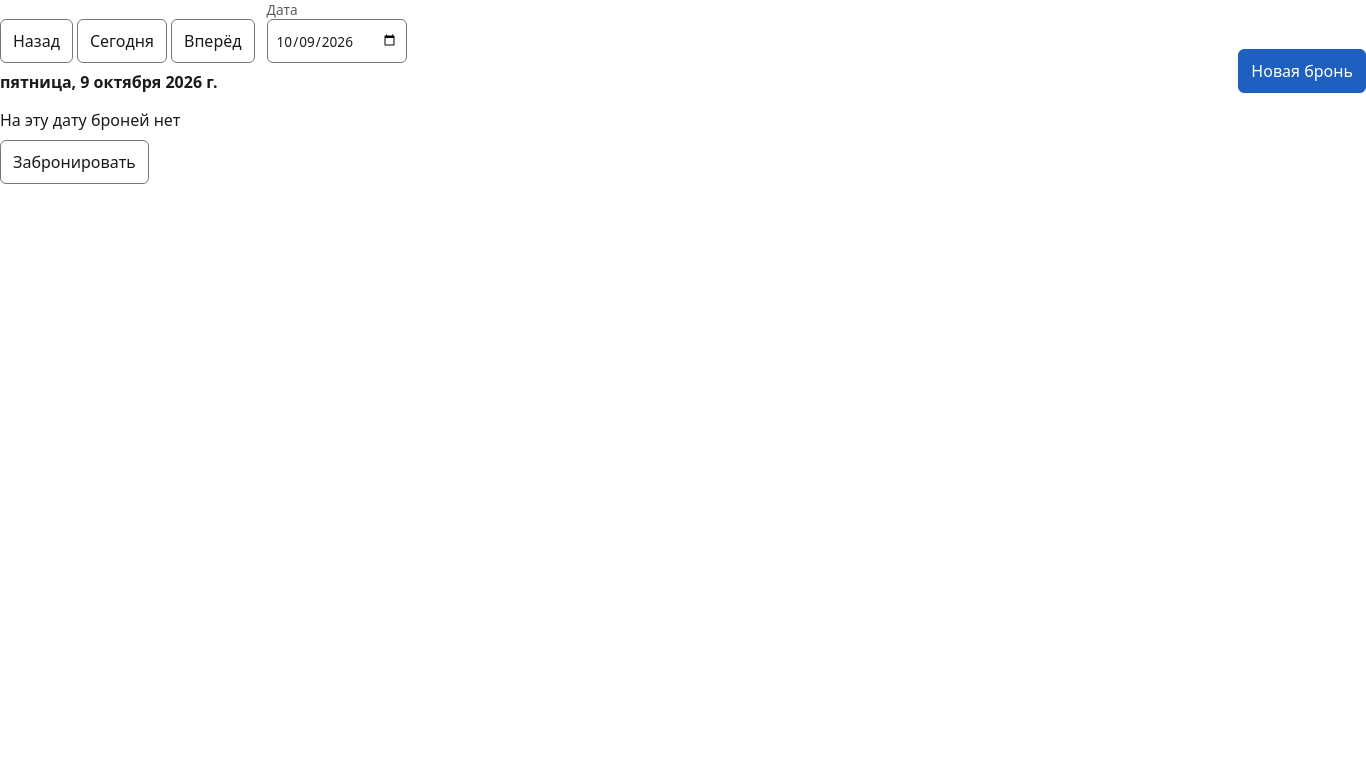
Test: Форма: 409 при сохранении (B8, Q7) › B8: смена только окончания тоже снимает пометку конфликта с обоих полей
The width and height of the screenshot is (1366, 768).
Click the button "Новая бронь" at (1302, 71), box [1238,49,1365,93]
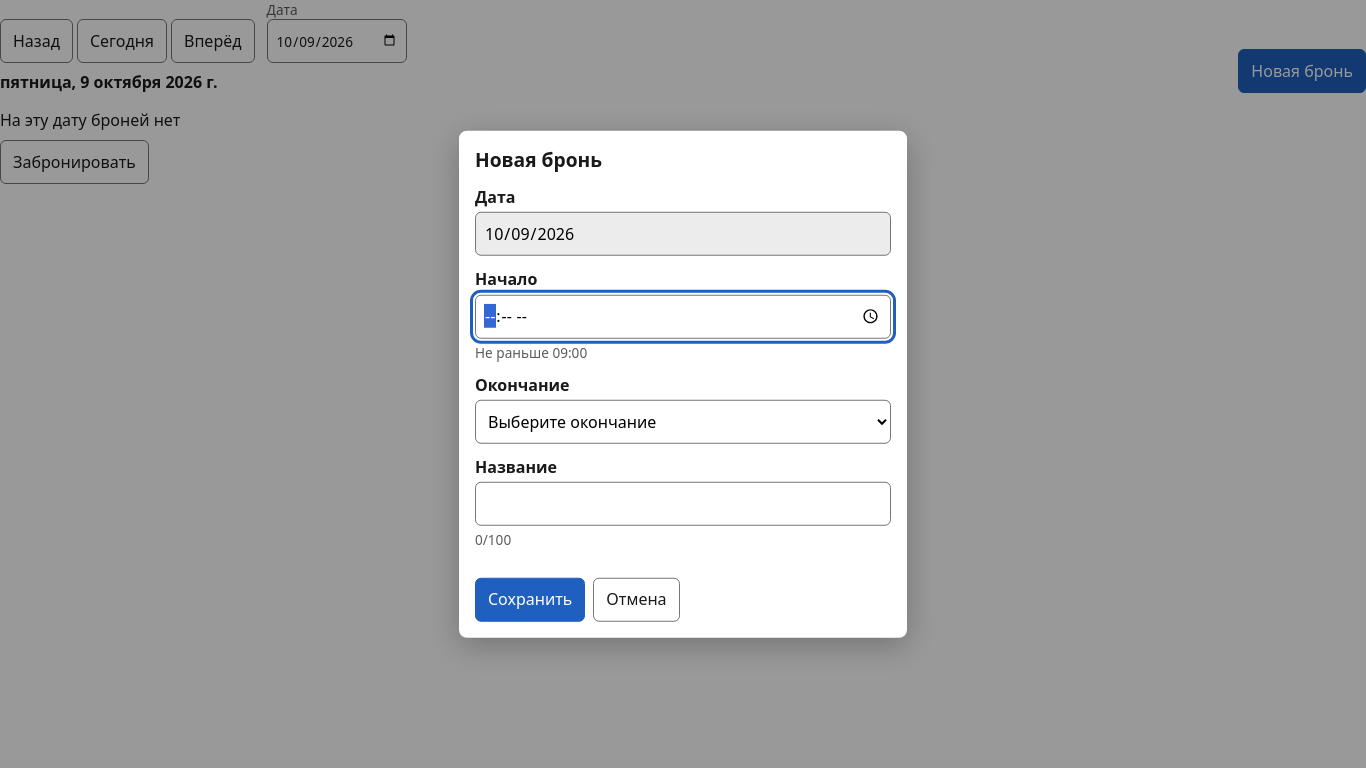
Expected: the dialog "Новая бронь" is shown, [459,131,907,637]
Type "14:00" into the time field labelled "Начало" at (683, 316), box [475,294,891,338]
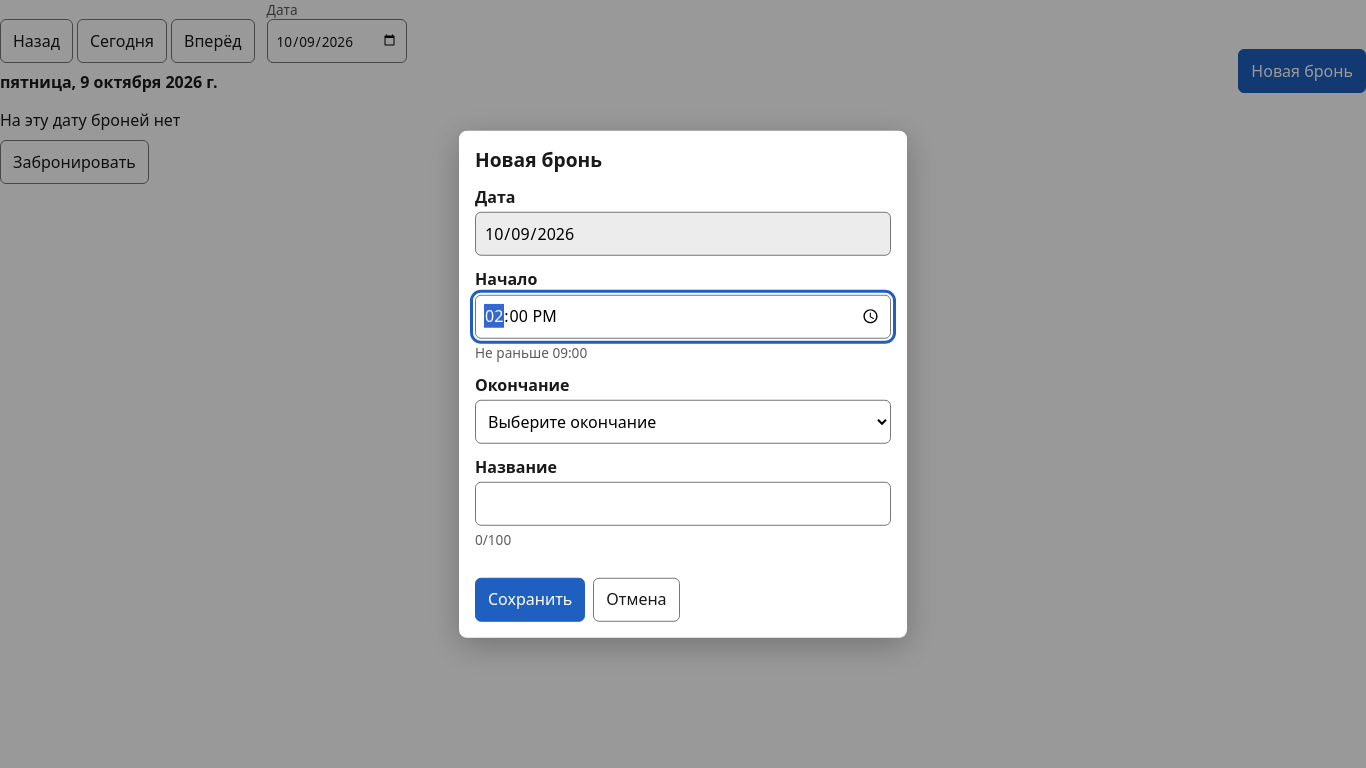
Select "15:00" in the dropdown labelled "Окончание" at (683, 422), box [475,400,891,444]
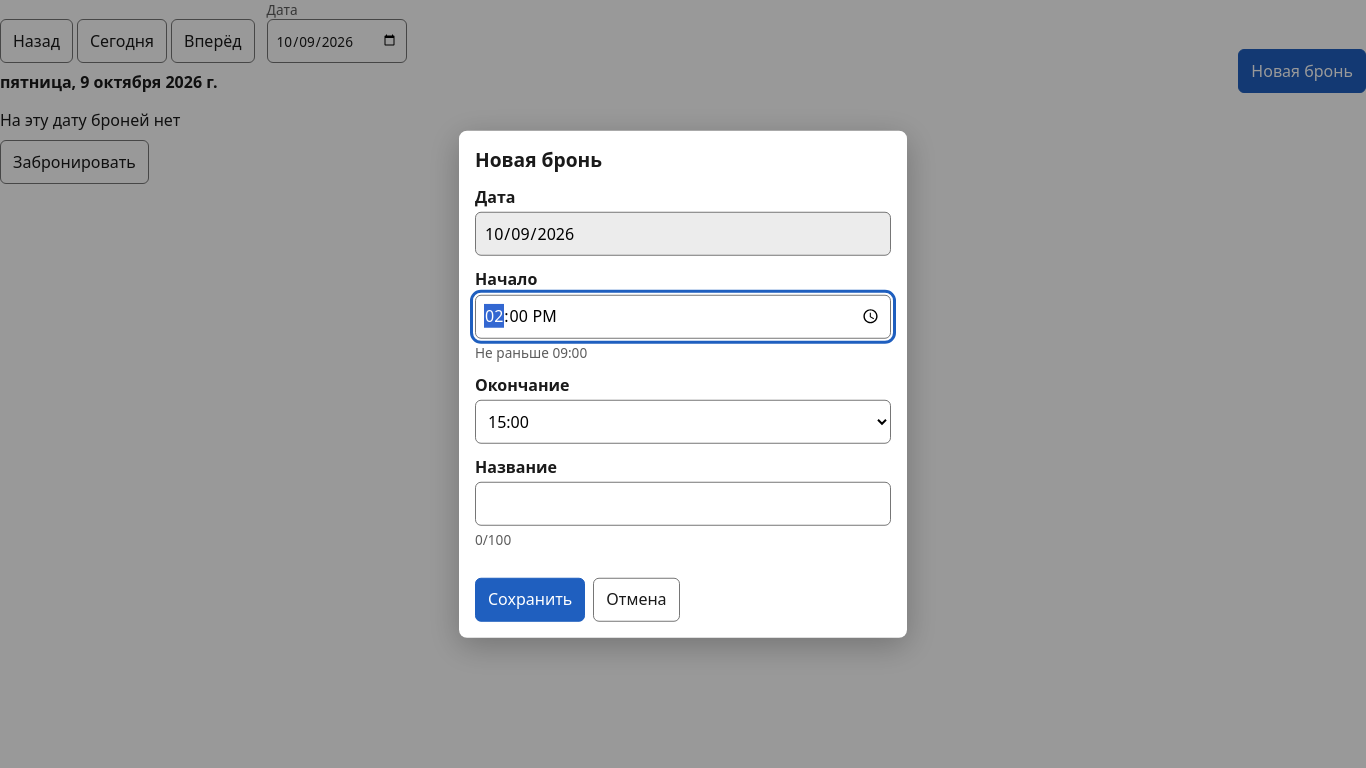
Type "Демо" into the field labelled "Название" at (683, 504), box [475,482,891,526]
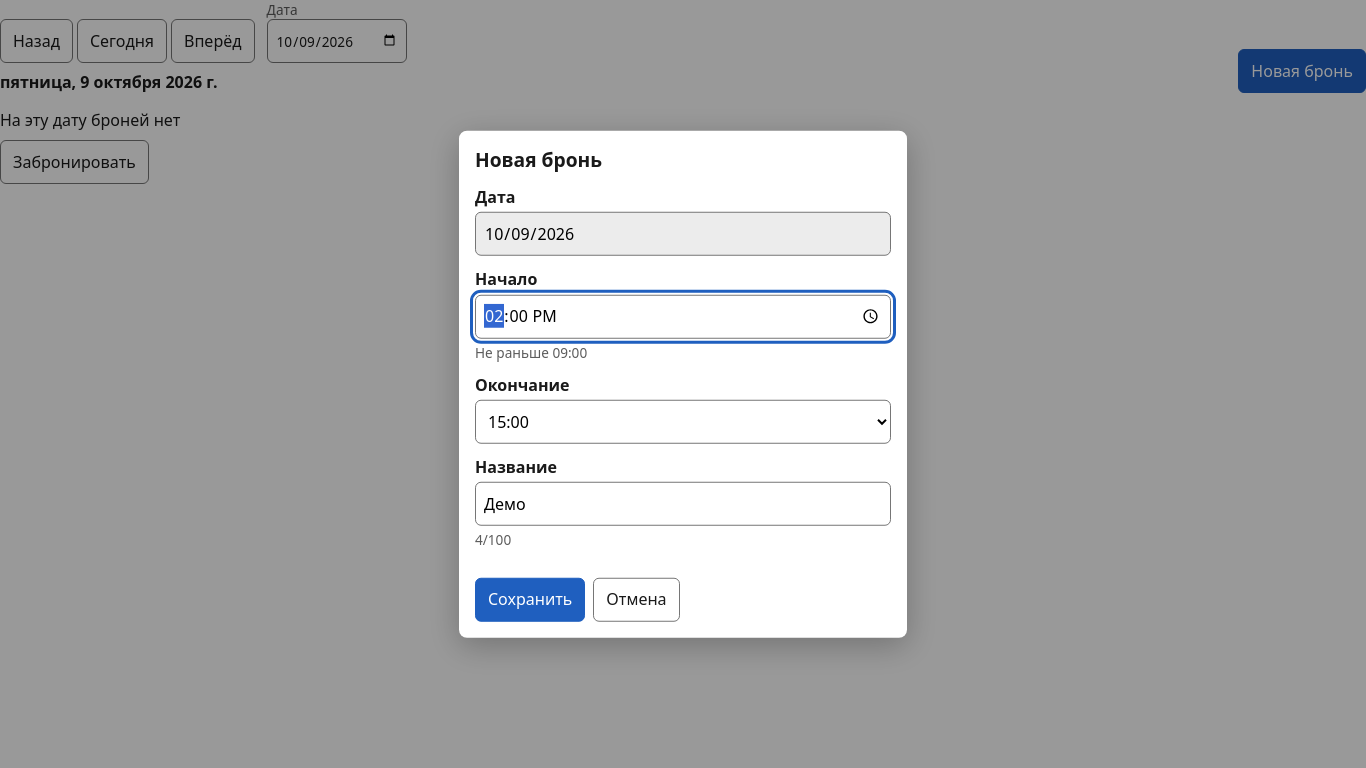
Click the button "Сохранить" at (530, 599), box [475,577,585,621]
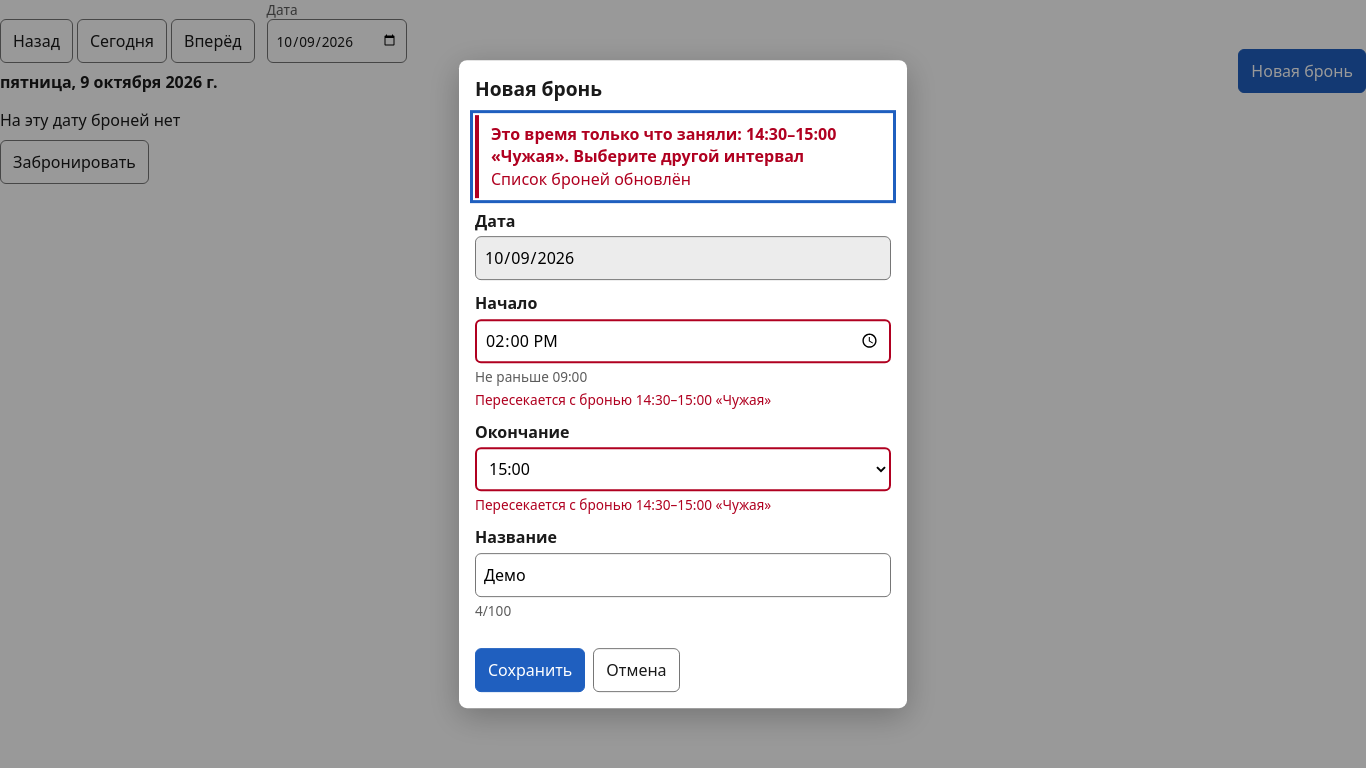
Expected: the message is shown, [475,115,891,198]
Select "14:30" in the dropdown labelled "Окончание" at (683, 469), box [475,447,891,491]
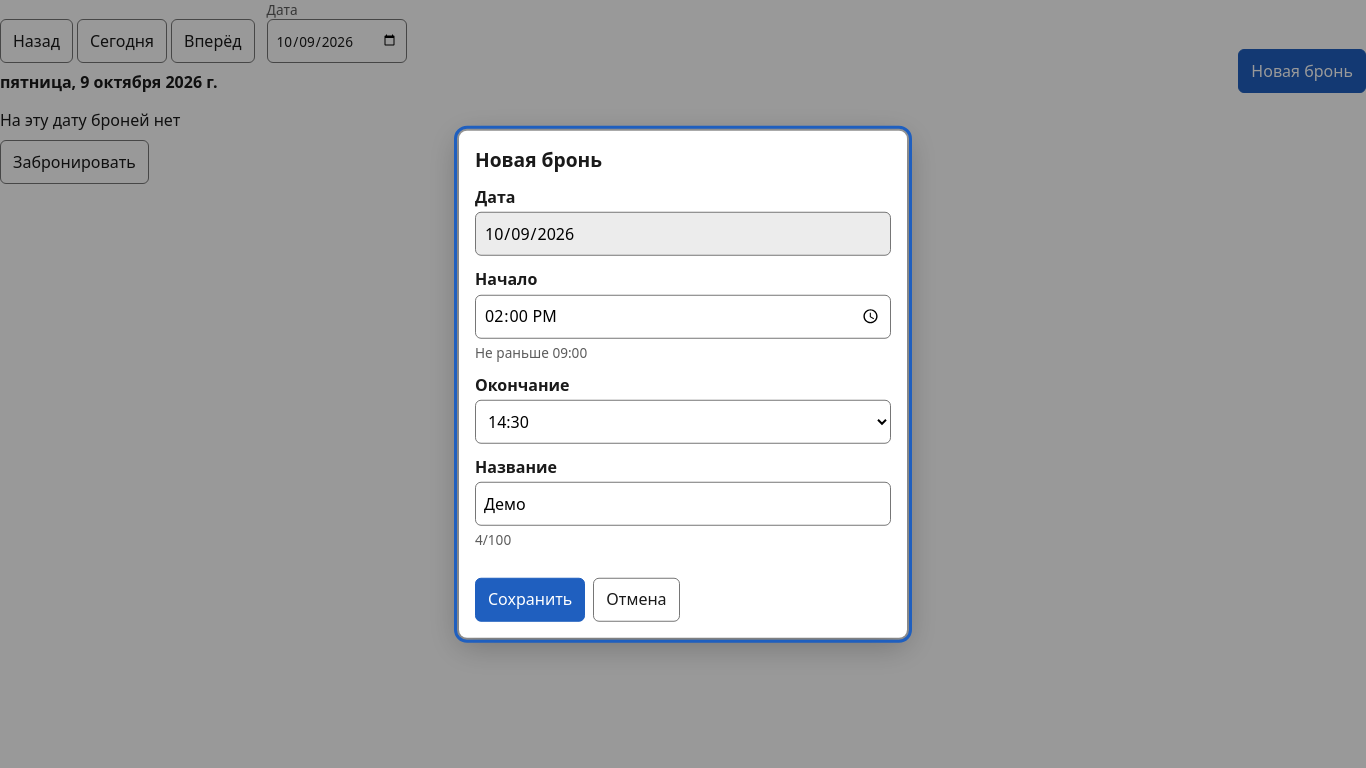
Expected: the text "Это время только что заняли" is gone
